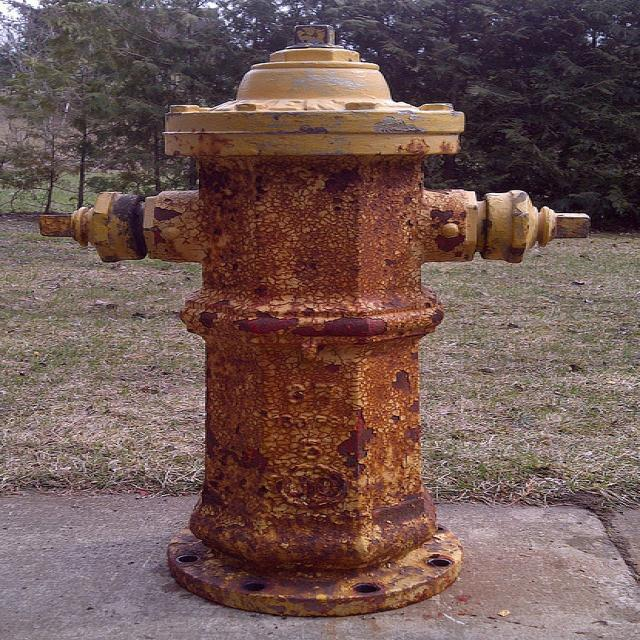fire_hydrant: (40, 25, 585, 616)
